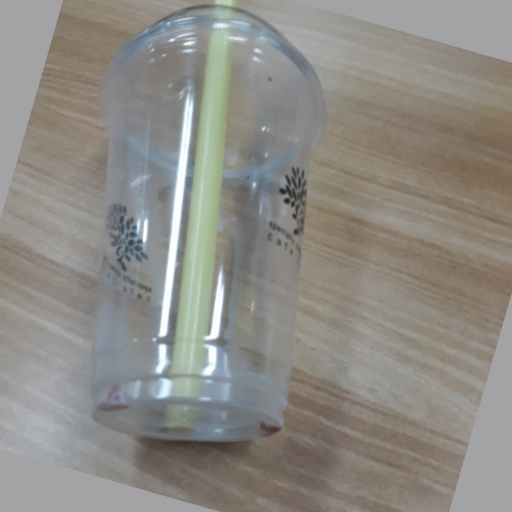Plastic_2: (90, 2, 324, 448)
